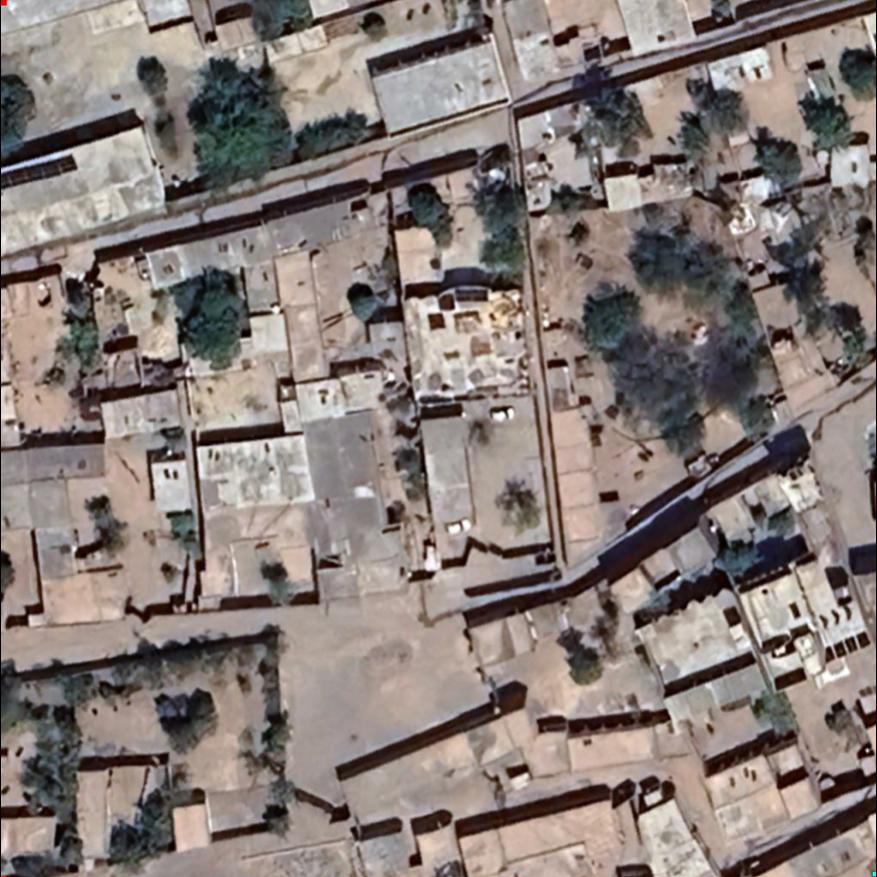Solarpanel: (1, 150, 86, 195), (423, 284, 496, 331)
